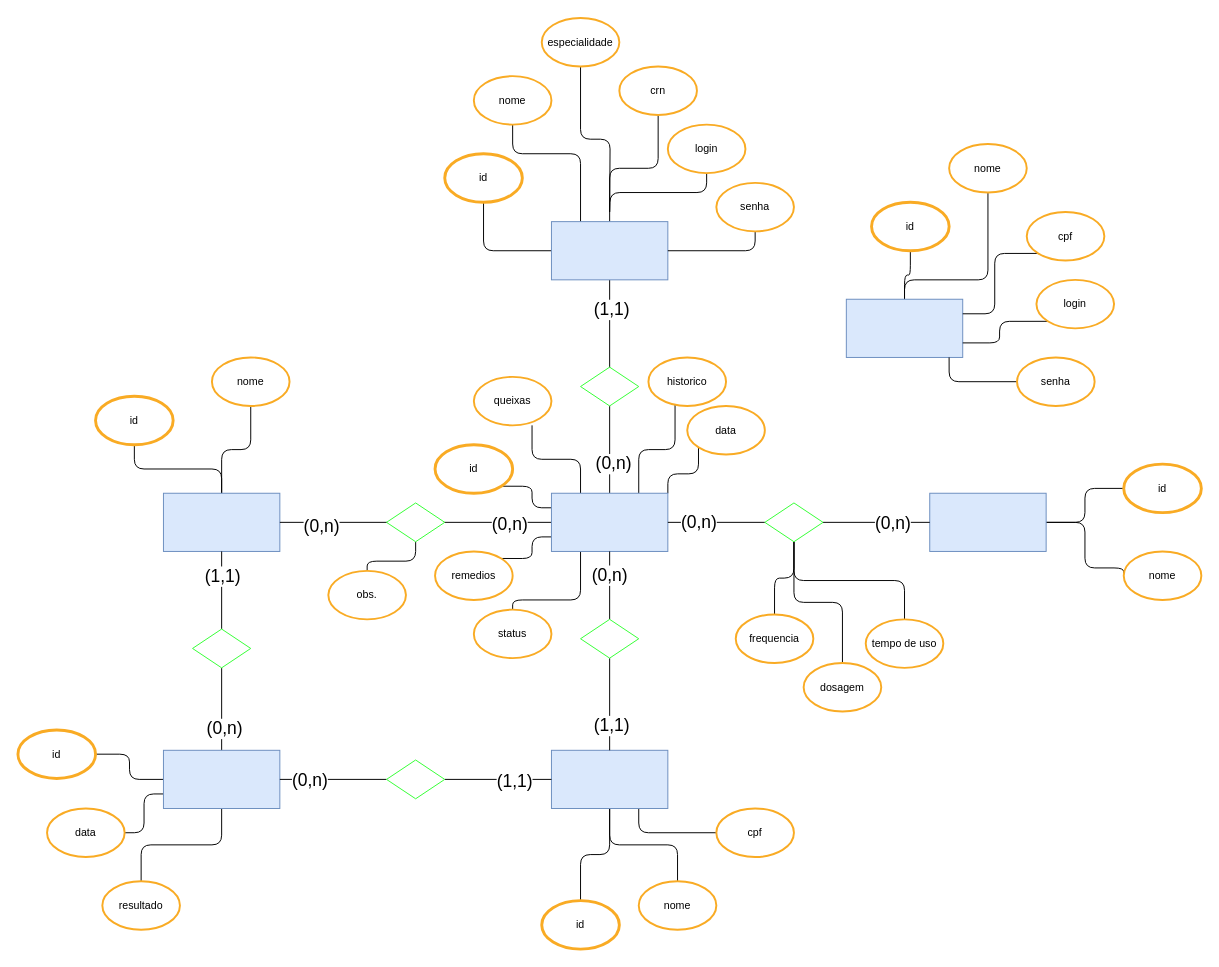
This 1219x967 diagram has some shape labels left out. Each missing label, with the centre of its shape:
"CONSULTA" belongs at [609,521].
"EXAME" belongs at [221,521].
"MEDICO" belongs at [609,250].
"PACIENTE" belongs at [609,778].
"RECEPCIONISTA" belongs at [904,327].
"REMEDIO" belongs at [987,521].
"RESULTADO EXAMES" belongs at [221,778].
